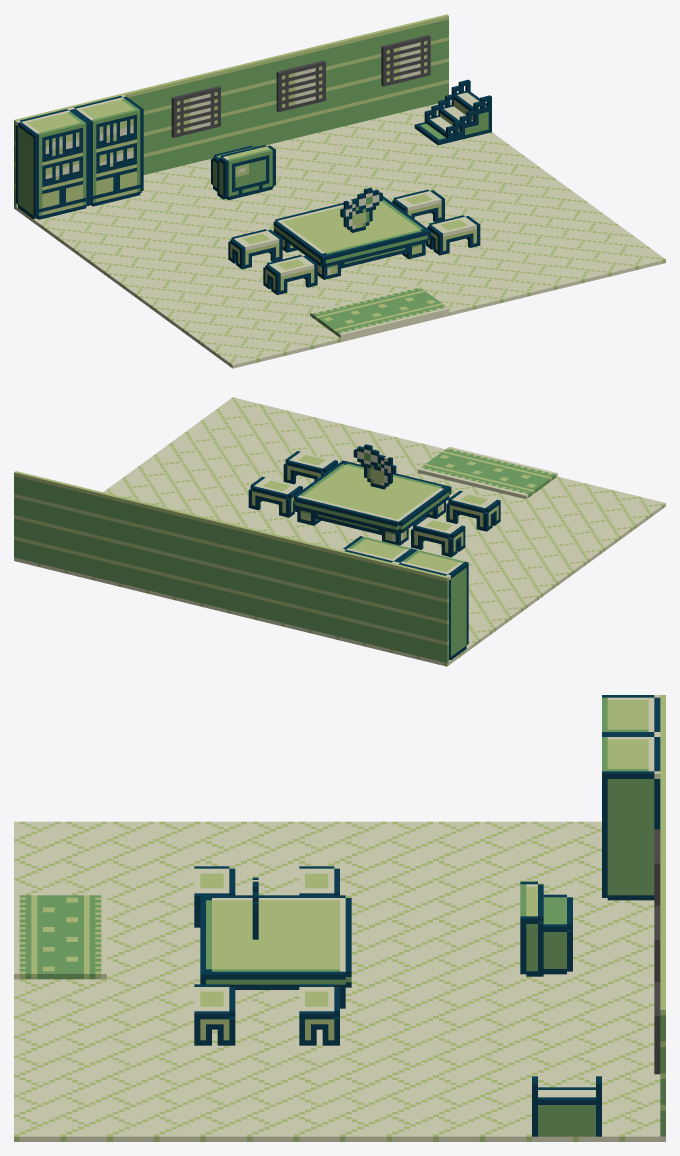
The model's file is pokemon_gb_home_f1_room.glb.
3 renders of one model, top to bottom at view 1: azimuth 30°, elevation 25°; view 2: azimuth 150°, elevation 25°; view 3: azimuth 270°, elevation 25°, orthographic. The views are drawn at different scales.
Parts seen in each view (by area): view 1: Object_3, Object_4, Object_6, Object_5, Object_7; view 2: Object_3, Object_6, Object_4, Object_5; view 3: Object_3, Object_4, Object_6, Object_5, Object_7.
Part boxes in pixels (<box>): Object_3: <box>16,42,663,368</box>; Object_4: <box>14,14,665,366</box>; Object_6: <box>14,19,488,336</box>; Object_5: <box>16,79,491,294</box>; Object_7: <box>171,35,430,137</box>; Object_3: <box>14,398,665,665</box>; Object_6: <box>14,449,555,662</box>; Object_4: <box>14,397,663,666</box>; Object_5: <box>248,444,500,659</box>; Object_3: <box>14,695,665,1141</box>; Object_4: <box>14,695,665,1141</box>; Object_6: <box>19,697,665,1136</box>; Object_5: <box>194,695,660,1136</box>; Object_7: <box>654,829,660,1074</box>.
Size of the model in its own units: 128 by 25 by 112.
